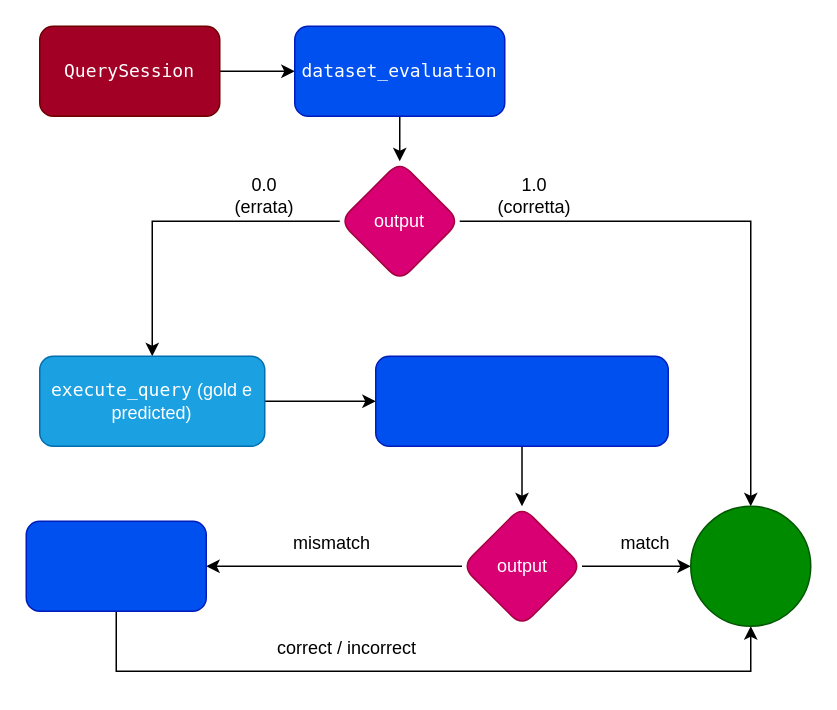
Some shapes in this 837 by 710 pixel diagram are drawn without their labels. The shapes that lost their labels are listed below. From the top down, each one's centre as x and y in pixels, then its label:
At (x=521, y=400): "custom_execution_compare".
At (x=115, y=565): "_run_llm_judge".
At (x=750, y=565): "fine".
